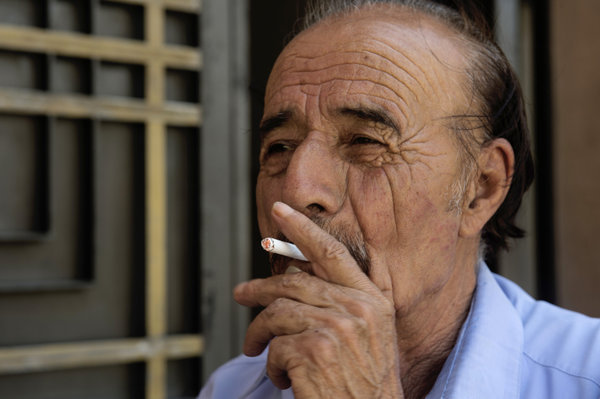cigarette: (251, 227, 330, 270)
